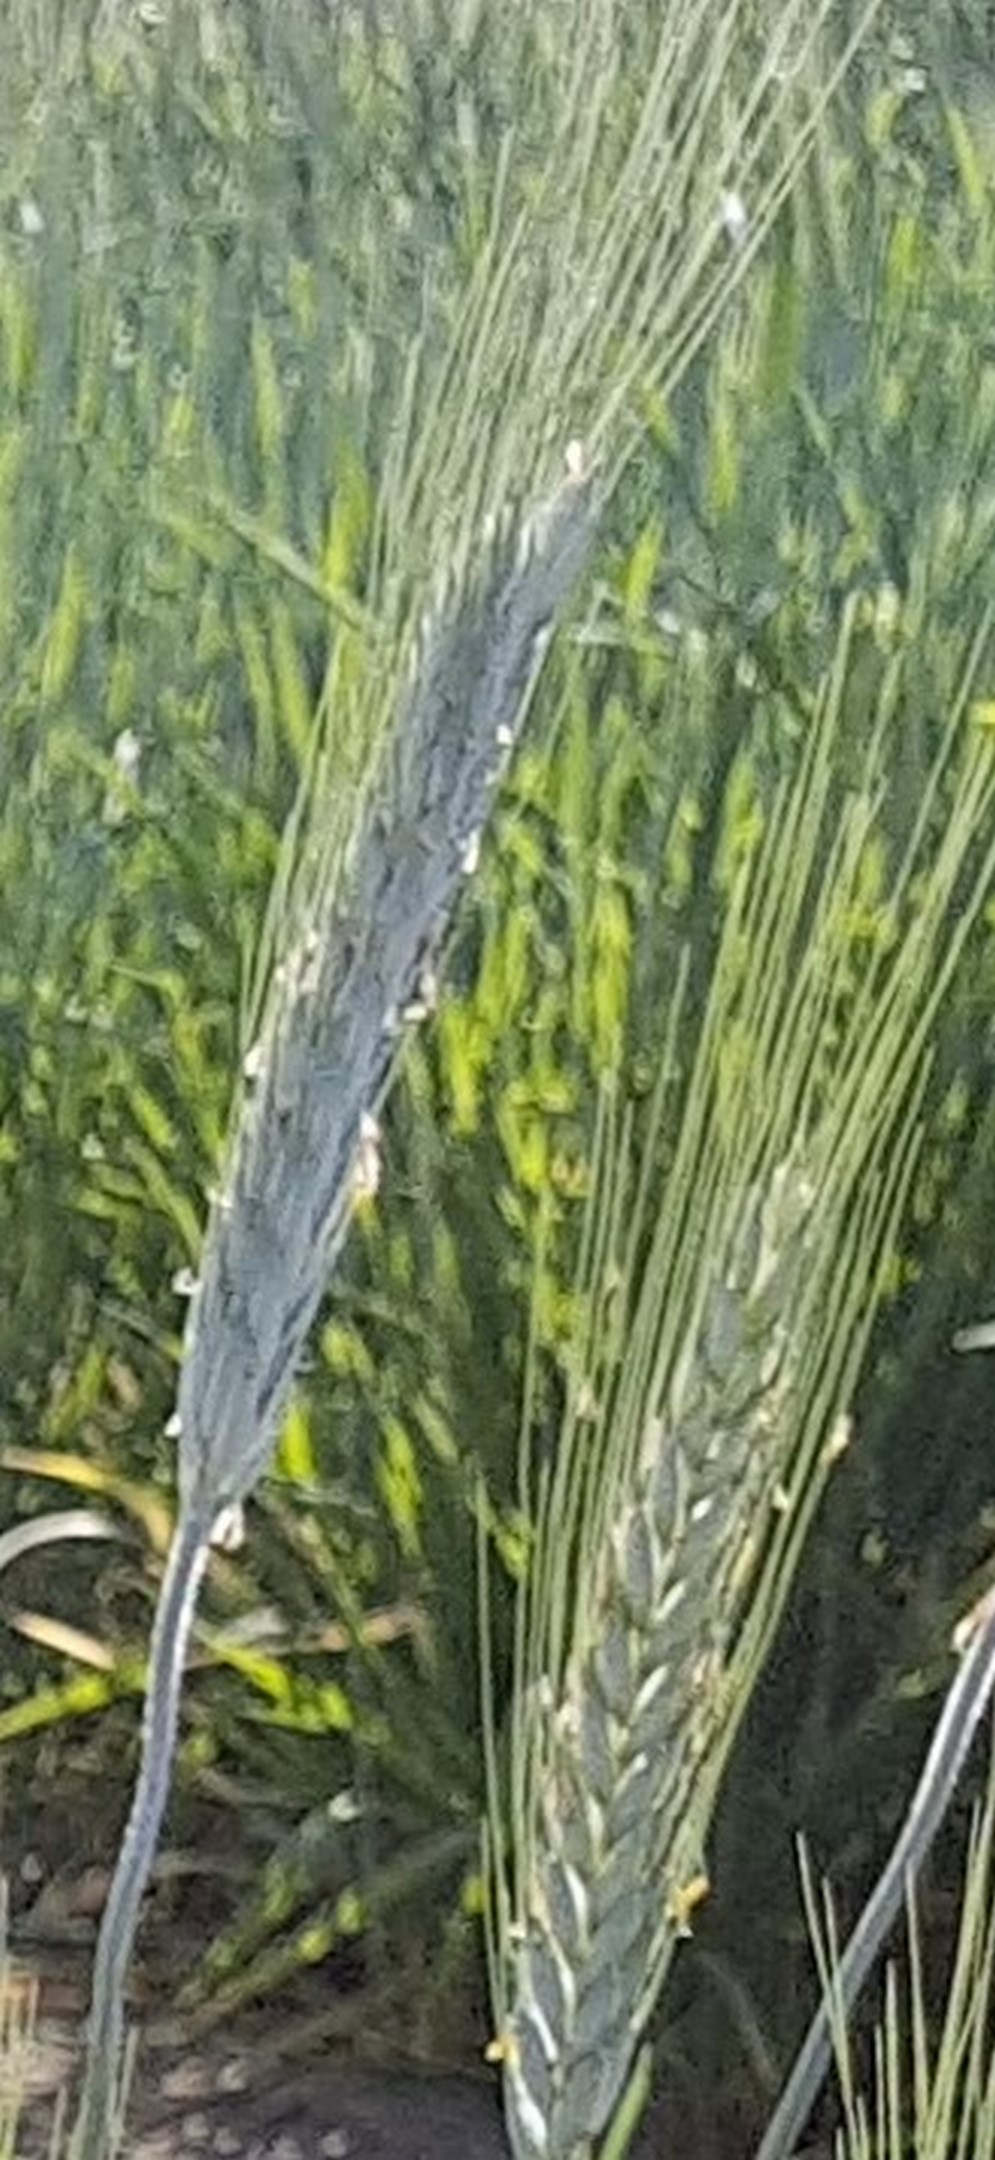Healthy Wheat: (469, 1121, 922, 2160)
